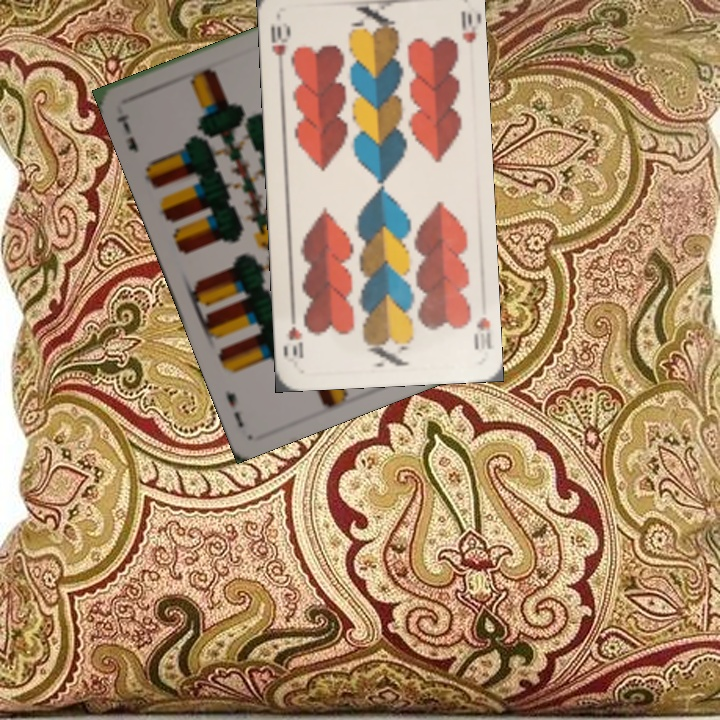E7: (112, 110, 141, 156)
H10: (266, 22, 292, 75), (470, 313, 494, 352)
